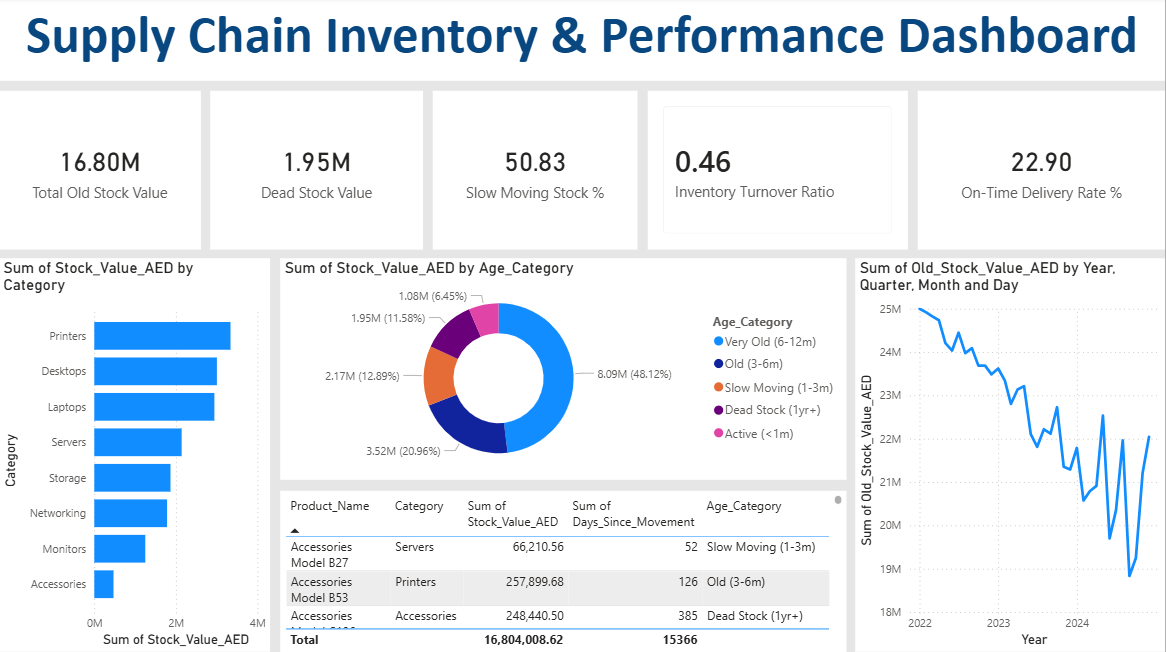

Layout of this report page (visuals, bound fields, positions):
{"tool":"powerbi","page":{"name":"Page 1","canvas":[1280,720],"ordinal":0},"visuals":[{"type":"card","fields":{"Values":["Inventory.Total Old Stock Value"]},"box":[0,102.4,221.5,174.2],"z":0},{"type":"card","fields":{"Values":["Inventory.Slow Moving Stock %"]},"box":[476.7,102.4,224.6,174.2],"z":1},{"type":"cardVisual","fields":{"Data":["Inventory.Inventory Turnover Ratio"]},"box":[712,102.4,285.7,174.2],"z":2},{"type":"card","fields":{"Values":["Inventory.On-Time Delivery Rate %"]},"box":[1008.4,102.4,272,174.2],"z":3},{"type":"card","fields":{"Values":["Inventory.Dead Stock Value"]},"box":[232.2,102.4,233.8,174.2],"z":4},{"type":"clusteredBarChart","fields":{"Y":["Sum(Inventory.Stock_Value_AED)"],"Category":["Inventory.Category"]},"box":[0,287.2,297.9,432.4],"z":5},{"type":"donutChart","fields":{"Category":["Inventory.Age_Category"],"Y":["Sum(Inventory.Stock_Value_AED)"]},"box":[308.6,287.2,621.8,242.9],"z":6},{"type":"lineChart","fields":{"Y":["Sum(Monthly_Snapshot.Old_Stock_Value_AED)"],"Category":["Monthly_Snapshot.Month.Variation.Date Hierarchy.Year","Monthly_Snapshot.Month.Variation.Date Hierarchy.Quarter","Monthly_Snapshot.Month.Variation.Date Hierarchy.Month","Monthly_Snapshot.Month.Variation.Date Hierarchy.Day"]},"box":[939.6,287.2,340.7,432.4],"z":7},{"type":"textbox","box":[0,0,1280.3,91.7],"z":8},{"type":"tableEx","fields":{"Values":["Inventory.Product_Name","Inventory.Category","Sum(Inventory.Stock_Value_AED)","Sum(Inventory.Days_Since_Movement)","Inventory.Age_Category"]},"box":[308.6,542.4,621.8,177.2],"z":9}]}

Visuals, with their boxes in screenshot pixels (x1, y1, x2, y2), scaled from the page's 1280x720 canvas onto the 1166x652 screenshot:
card - Inventory.Total Old Stock Value: left=0, top=93, right=202, bottom=250
card - Inventory.Slow Moving Stock %: left=434, top=93, right=639, bottom=250
cardVisual - Inventory.Inventory Turnover Ratio: left=649, top=93, right=909, bottom=250
card - Inventory.On-Time Delivery Rate %: left=919, top=93, right=1165, bottom=250
card - Inventory.Dead Stock Value: left=212, top=93, right=424, bottom=250
clusteredBarChart - Sum(Inventory.Stock_Value_AED) x Inventory.Category: left=0, top=260, right=271, bottom=651
donutChart - Inventory.Age_Category x Sum(Inventory.Stock_Value_AED): left=281, top=260, right=848, bottom=480
lineChart - Sum(Monthly_Snapshot.Old_Stock_Value_AED) x Monthly_Snapshot.Month.Variation.Date Hierarchy.Year: left=856, top=260, right=1165, bottom=651
textbox: left=0, top=0, right=1165, bottom=83
tableEx - Inventory.Product_Name x Inventory.Category: left=281, top=491, right=848, bottom=651
